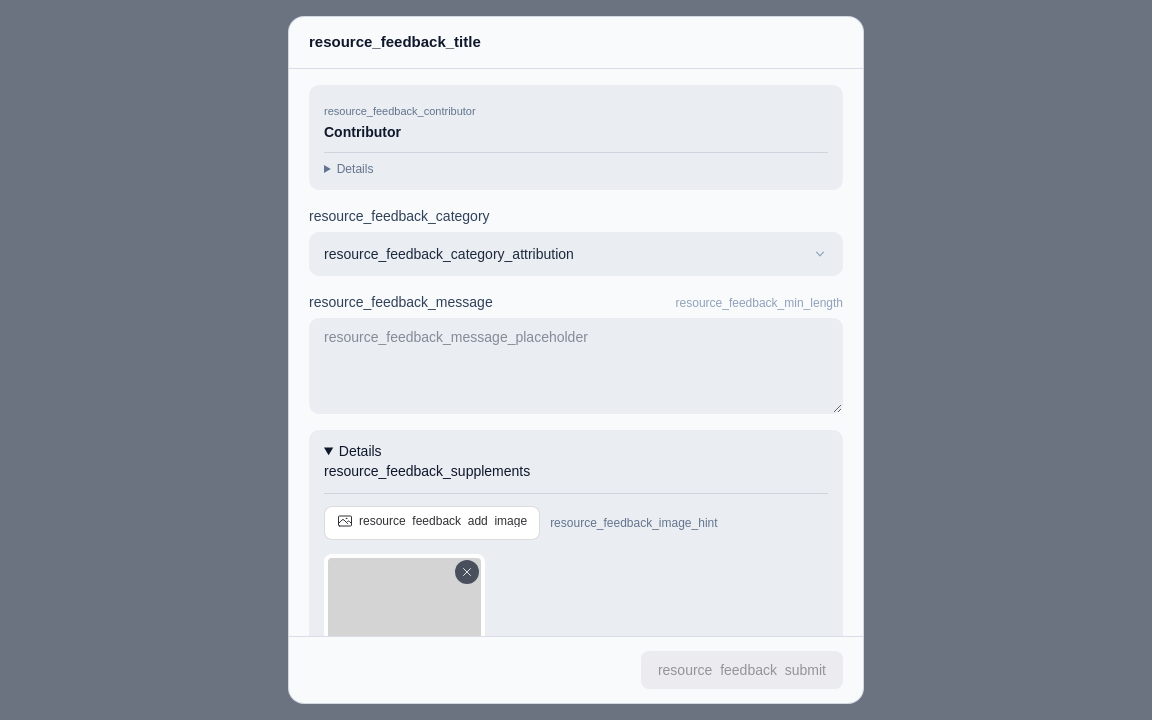
Test: accepts screenshots through file and allows removal
This screenshot has width=1152, height=720.
Earlier steps of the test are not shown.
Expected: the picture with alt text "resource_feedback_image_number" is shown, [328, 558, 481, 636]
Click the button named "resource_feedback_remove_image". click: x=467, y=572
box: [455, 560, 479, 584]
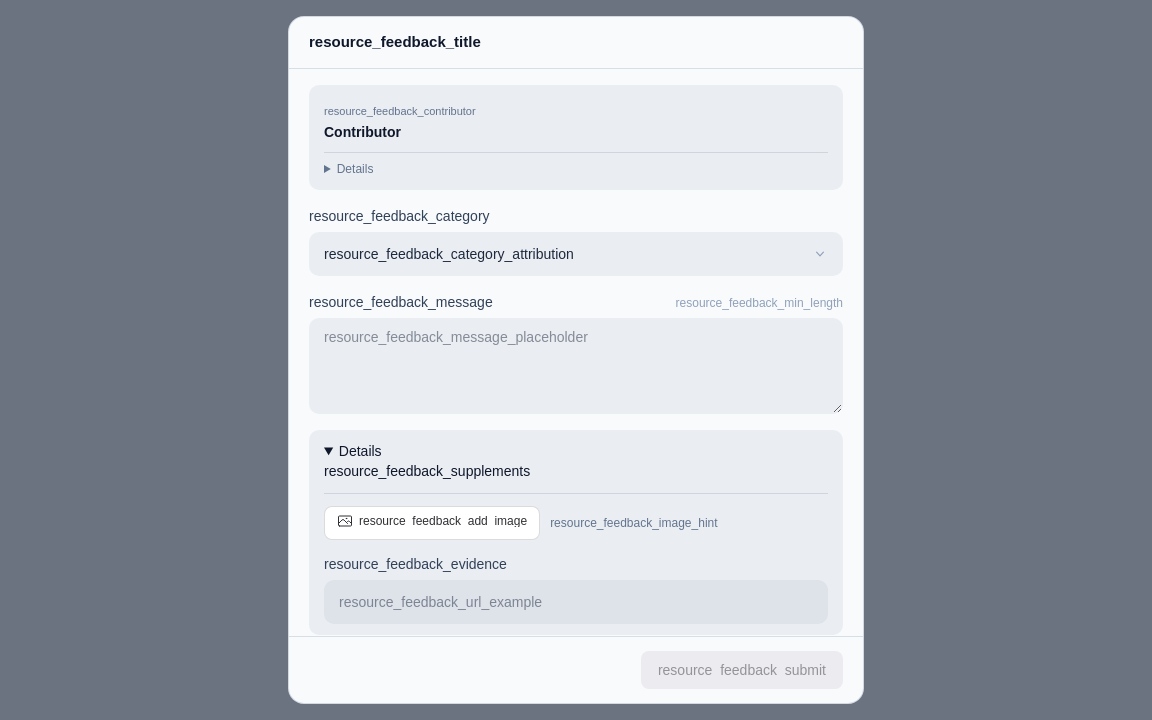
Result: the picture with alt text "resource_feedback_image_number" is gone
